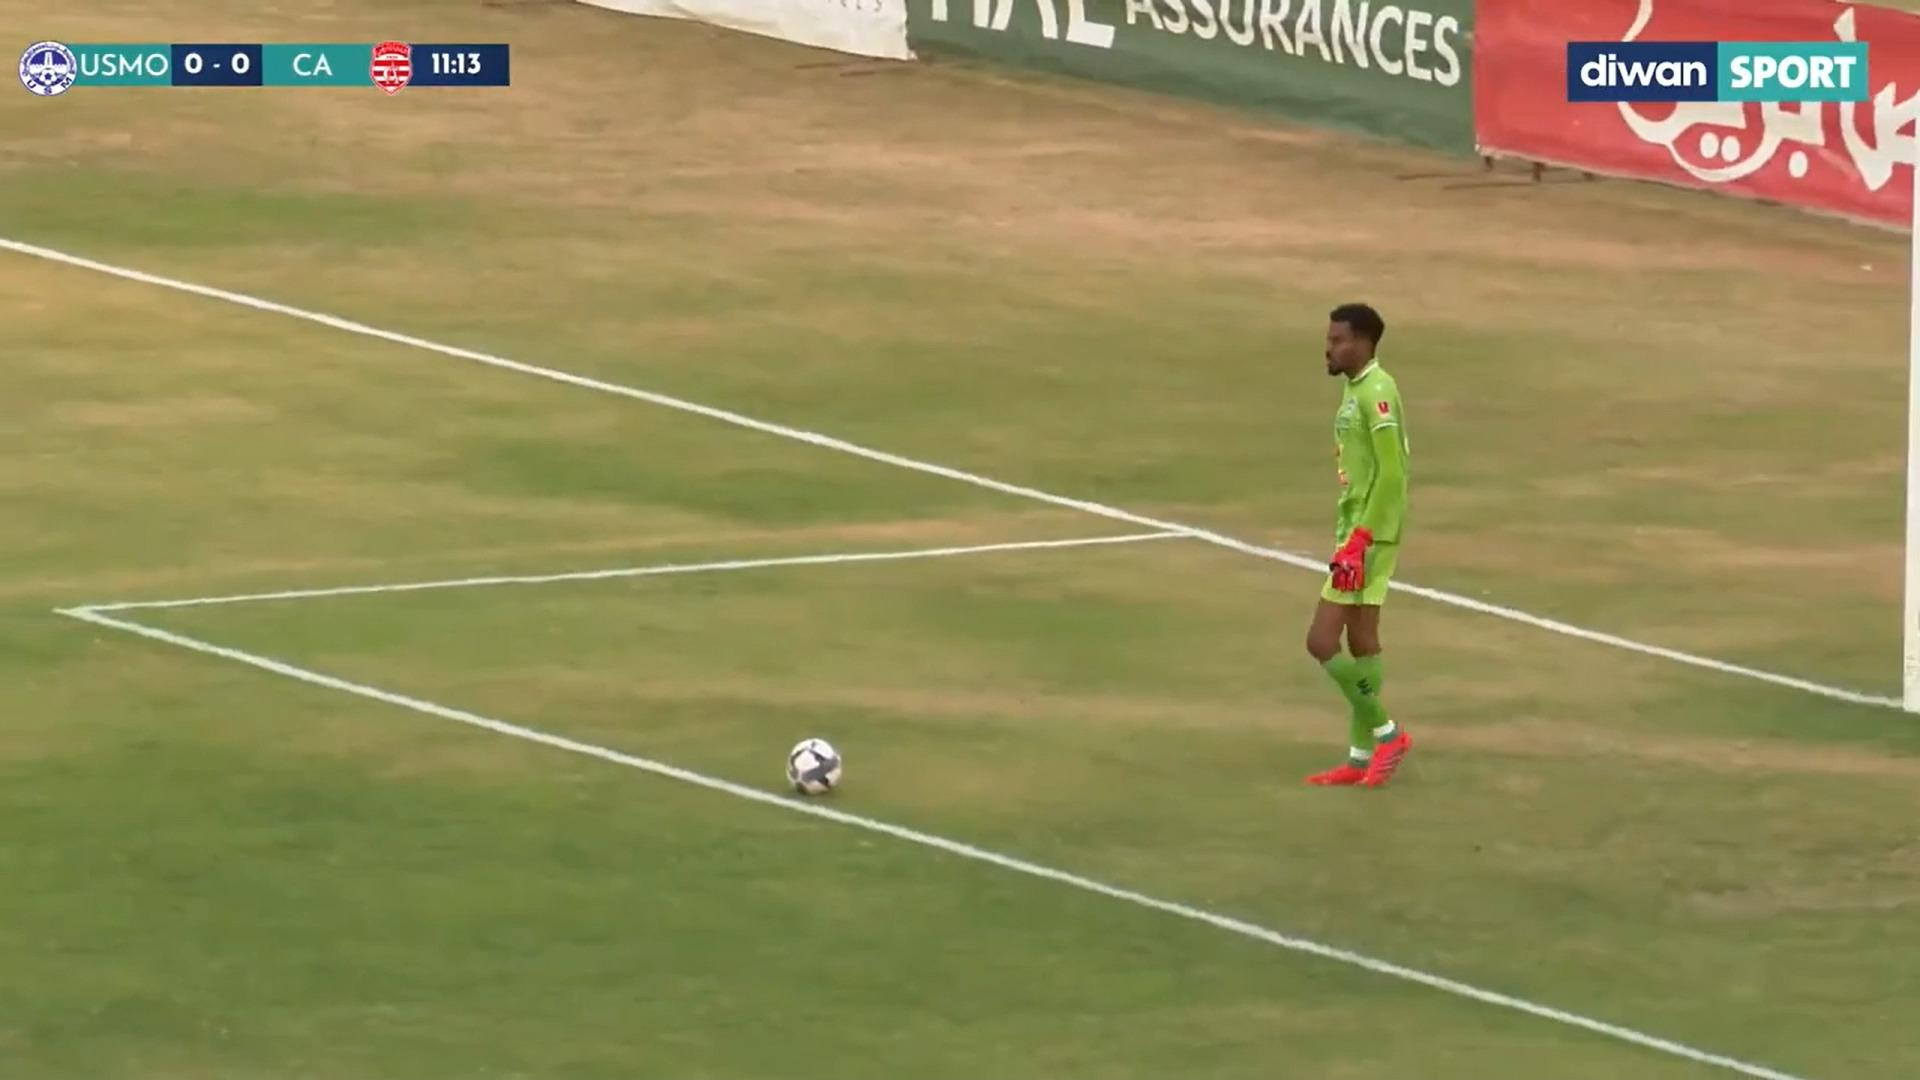ball: (761, 724, 870, 825)
goalkeeper: (1244, 303, 1499, 836)
